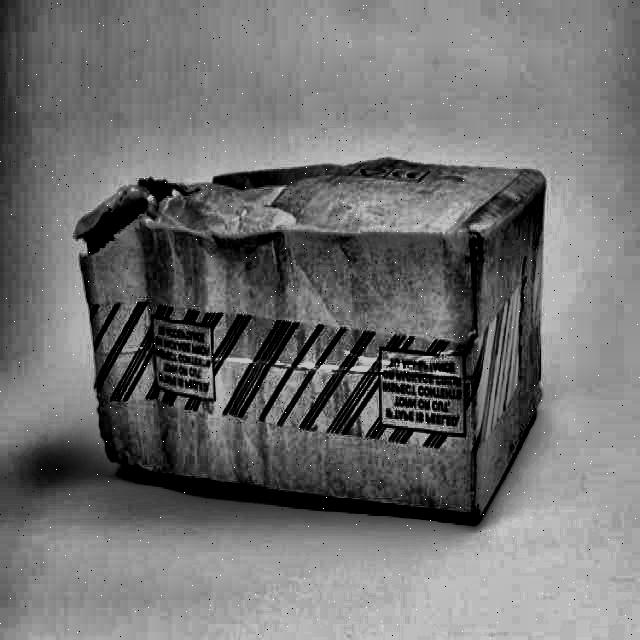box: (70, 131, 569, 534)
hole: (76, 173, 174, 291)
